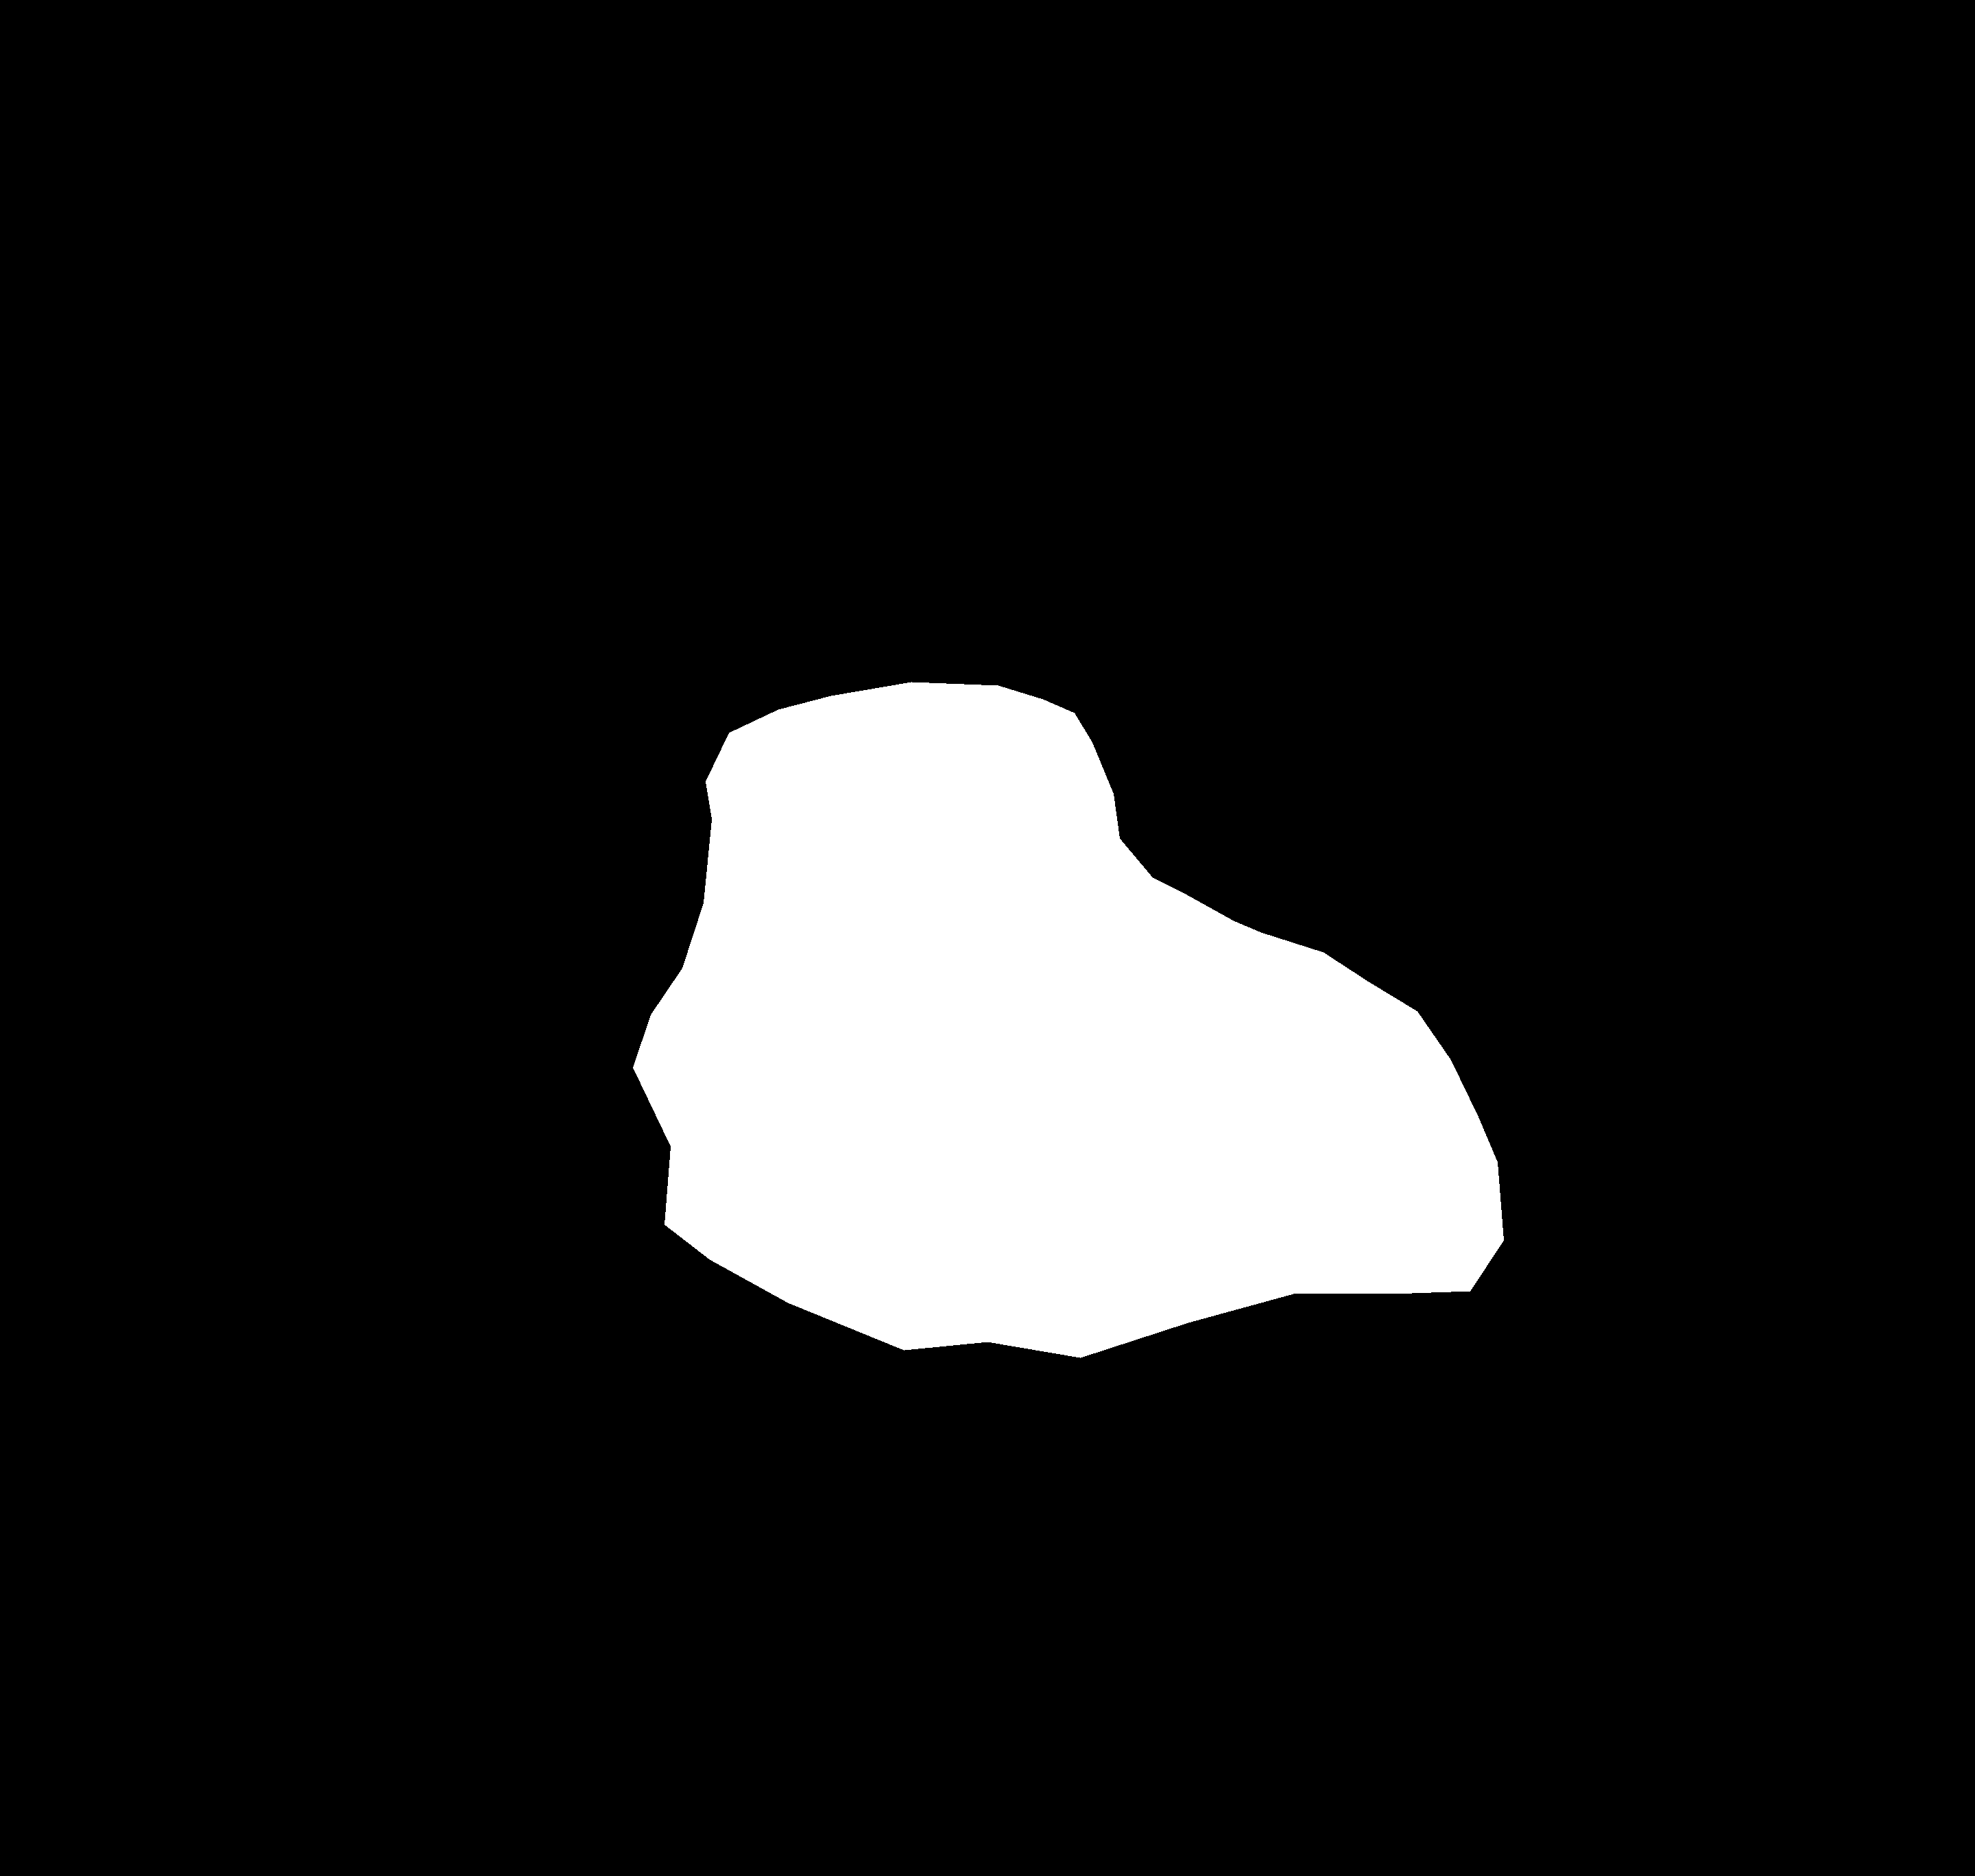heart: (633, 682, 1502, 1358)
left_lung: (83, 210, 843, 1497)
right_lung: (984, 226, 1654, 1370)
